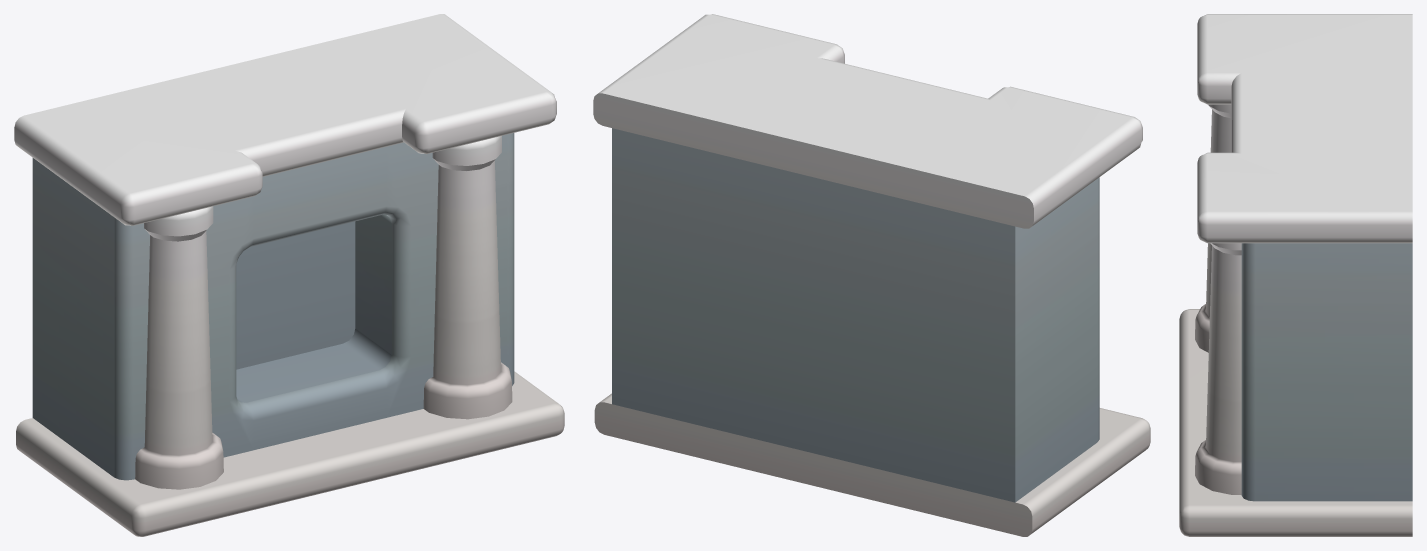
File: Fireplace_06.glb
3 views of the same model, side by side, from view 1: azimuth 30°, elevation 25°; view 2: azimuth 150°, elevation 25°; view 3: azimuth 270°, elevation 25° (orthographic). The views are drawn at different scales.
Parts seen in each view (by area): view 1: Fireplace_06; view 2: Fireplace_06; view 3: Fireplace_06.
Part boxes in pixels (left/top/right/bottom): Fireplace_06: left=14, top=14, right=564, bottom=536; Fireplace_06: left=593, top=14, right=1150, bottom=536; Fireplace_06: left=1179, top=14, right=1412, bottom=536.
Size of the model in its own units: 1.42 by 1.05 by 0.6825.
Materials: 1 (1 with a texture image).
